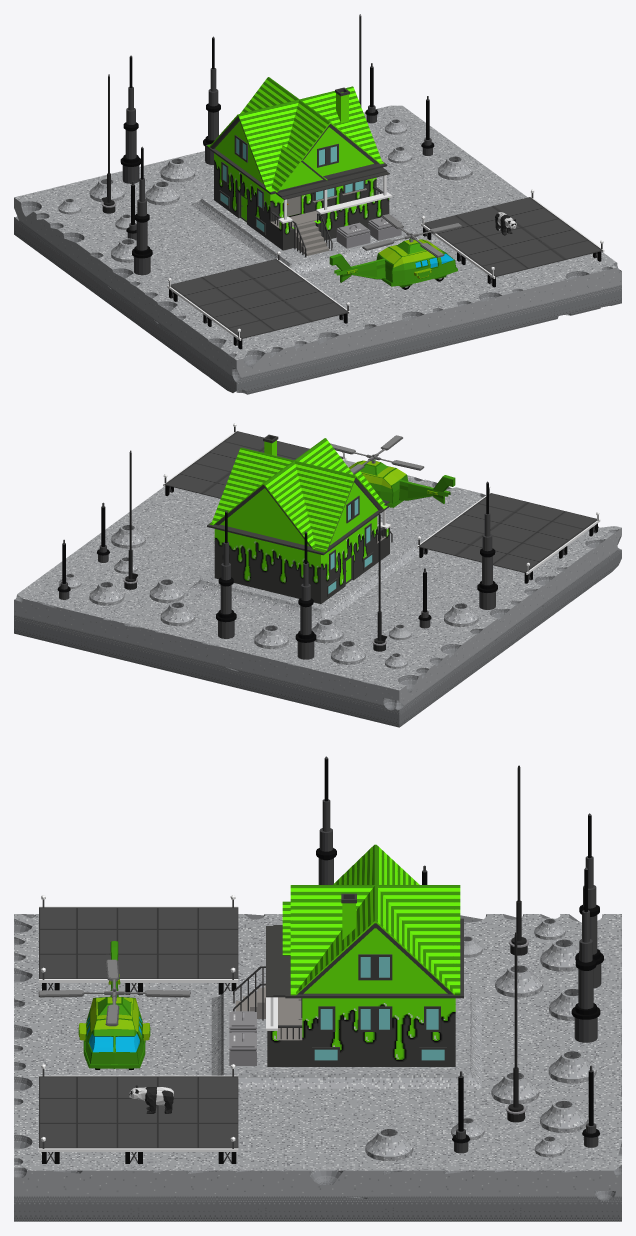
3 renders of one model, top to bottom at view 1: azimuth 30°, elevation 25°; view 2: azimuth 150°, elevation 25°; view 3: azimuth 270°, elevation 25°, orthographic. The views are drawn at different scales.
Visible parts, largest first — view 1: Cube.027, Cube.754, Cube.025, Cube.026, VEHICLES_HELICOPTER, Cube.028, Cylinder.020, Cylinder.021, Cylinder.017, Cube.029, Cylinder.027, Cylinder.033 (+3 smaller); view 2: Cube.027, Cube.754, Cube.025, Cube.028, Cube.026, VEHICLES_HELICOPTER, Cylinder.020, Cylinder.021, Cylinder.017, Cylinder.031, Cylinder.028, Cylinder.029 (+7 smaller); view 3: Cube.027, Cube.754, Cube.025, Cube.026, Cube.028, VEHICLES_HELICOPTER, Cylinder.017, Cylinder.020, Cylinder.021, Cylinder.033, Cylinder.031, Cylinder.029 (+10 smaller).
Part boxes in pixels (<box>): Cube.027: <box>14,105,621,394</box>; Cube.754: <box>205,77,392,257</box>; Cube.025: <box>167,251,350,349</box>; Cube.026: <box>421,189,604,287</box>; VEHICLES_HELICOPTER: <box>329,214,462,289</box>; Cube.028: <box>191,195,420,274</box>; Cylinder.020: <box>120,55,140,183</box>; Cylinder.021: <box>132,146,152,275</box>; Cylinder.017: <box>203,36,220,164</box>; Cube.029: <box>336,222,370,248</box>; Cylinder.027: <box>160,158,195,182</box>; Cylinder.033: <box>438,156,472,180</box>; Cube.027: <box>14,460,621,727</box>; Cube.754: <box>207,434,392,603</box>; Cube.025: <box>417,485,600,583</box>; Cube.028: <box>190,538,419,620</box>; Cube.026: <box>163,423,346,498</box>; VEHICLES_HELICOPTER: <box>330,435,455,507</box>; Cylinder.020: <box>295,531,316,659</box>; Cylinder.021: <box>477,481,497,609</box>; Cylinder.017: <box>216,510,236,638</box>; Cylinder.031: <box>89,581,124,605</box>; Cylinder.028: <box>331,640,365,664</box>; Cylinder.029: <box>160,601,195,626</box>; Cube.027: <box>14,914,621,1221</box>; Cube.754: <box>233,844,463,1066</box>; Cube.025: <box>39,895,238,994</box>; Cube.026: <box>39,1064,238,1163</box>; Cube.028: <box>211,991,481,1088</box>; VEHICLES_HELICOPTER: <box>38,941,190,1069</box>; Cylinder.017: <box>571,867,600,1042</box>; Cylinder.020: <box>575,813,603,988</box>; Cylinder.021: <box>316,756,336,884</box>; Cylinder.033: <box>365,1128,413,1160</box>; Cylinder.031: <box>540,1100,587,1132</box>; Cylinder.029: <box>548,1050,596,1083</box>.
Size of the model in its own units: 4000 by 1900 by 4000.
Materials: 28 (5 with a texture image).
